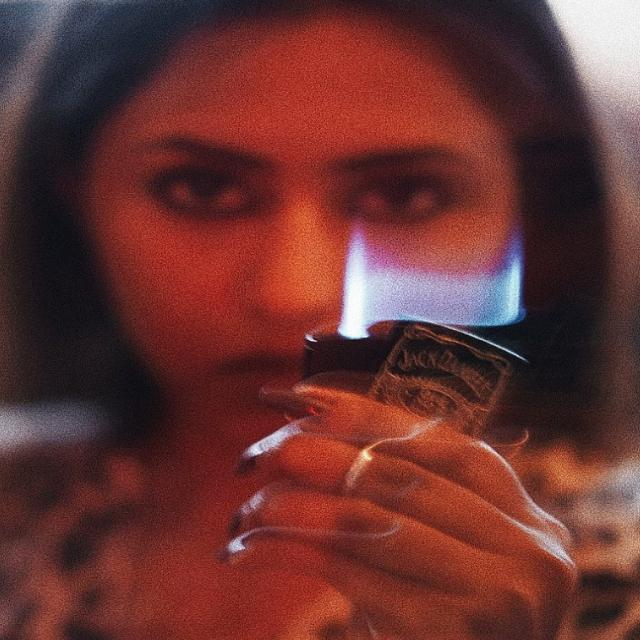fire: (338, 221, 524, 338)
